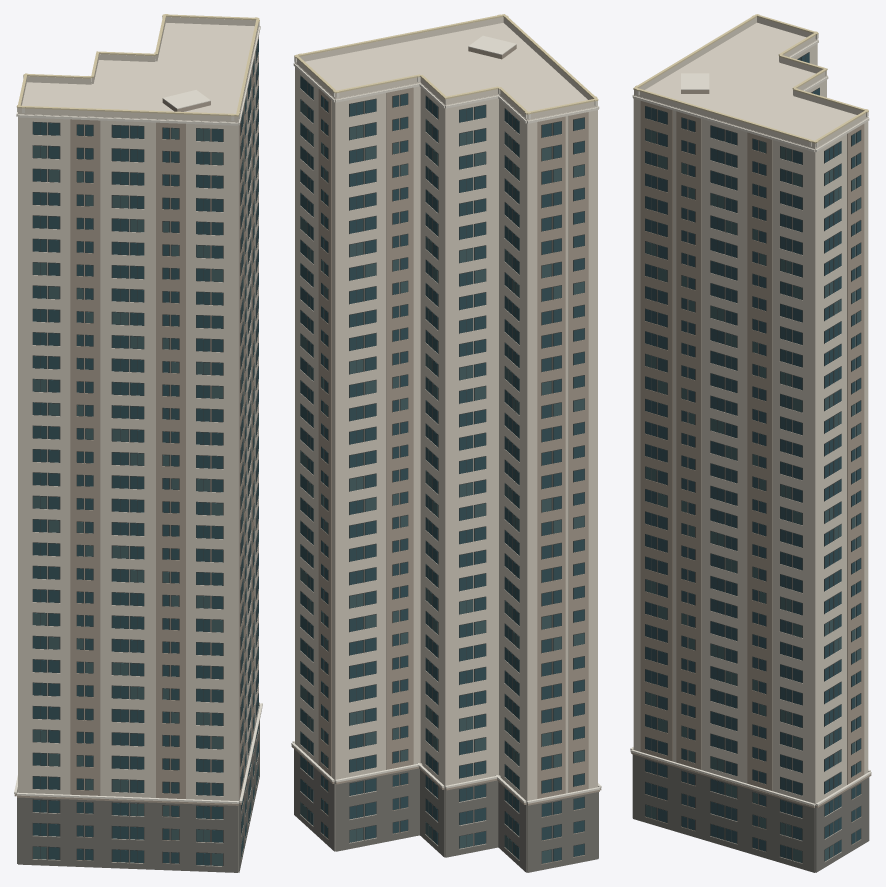
Rendered from bespoke-raemian-prestige-120.glb.
The picture shows the model from 3 angles, left to right: view 1: azimuth 30°, elevation 25°; view 2: azimuth 150°, elevation 25°; view 3: azimuth 270°, elevation 25°; orthographic projection. The views are drawn at different scales.
Visible parts, largest first — view 1: Prestige_warm_ivory_rendered_wall006, Prestige_recessed_blue_green_window006, Prestige_wide_taupe_pilasters006, Prestige_dark_bronze_thin_window_frame006, Prestige_dark_brown_grey_stone_base006, Prestige_muted_green_window_pair006, Prestige_pale_limestone_band006, Prestige_cream_gold_crown_coping006; view 2: Prestige_warm_ivory_rendered_wall006, Prestige_recessed_blue_green_window006, Prestige_wide_taupe_pilasters006, Prestige_dark_bronze_thin_window_frame006, Prestige_dark_brown_grey_stone_base006, Prestige_muted_green_window_pair006, Prestige_pale_limestone_band006, Prestige_cream_gold_crown_coping006; view 3: Prestige_warm_ivory_rendered_wall006, Prestige_wide_taupe_pilasters006, Prestige_recessed_blue_green_window006, Prestige_dark_bronze_thin_window_frame006, Prestige_dark_brown_grey_stone_base006, Prestige_muted_green_window_pair006, Prestige_pale_limestone_band006, Prestige_cream_gold_crown_coping006.
Boxes of the visible parts, x1=… form: Prestige_warm_ivory_rendered_wall006: x1=18, y1=17, x2=258, y2=871; Prestige_recessed_blue_green_window006: x1=33, y1=39, x2=258, y2=865; Prestige_wide_taupe_pilasters006: x1=14, y1=57, x2=261, y2=864; Prestige_dark_bronze_thin_window_frame006: x1=32, y1=39, x2=258, y2=866; Prestige_dark_brown_grey_stone_base006: x1=17, y1=705, x2=259, y2=872; Prestige_muted_green_window_pair006: x1=33, y1=45, x2=258, y2=865; Prestige_pale_limestone_band006: x1=14, y1=17, x2=262, y2=803; Prestige_cream_gold_crown_coping006: x1=16, y1=14, x2=259, y2=116; Prestige_warm_ivory_rendered_wall006: x1=295, y1=17, x2=597, y2=872; Prestige_recessed_blue_green_window006: x1=300, y1=76, x2=584, y2=861; Prestige_wide_taupe_pilasters006: x1=291, y1=45, x2=601, y2=864; Prestige_dark_bronze_thin_window_frame006: x1=300, y1=75, x2=584, y2=863; Prestige_dark_brown_grey_stone_base006: x1=294, y1=749, x2=598, y2=872; Prestige_muted_green_window_pair006: x1=300, y1=99, x2=584, y2=863; Prestige_pale_limestone_band006: x1=291, y1=35, x2=601, y2=803; Prestige_cream_gold_crown_coping006: x1=294, y1=14, x2=598, y2=114; Prestige_warm_ivory_rendered_wall006: x1=633, y1=17, x2=868, y2=863; Prestige_wide_taupe_pilasters006: x1=630, y1=90, x2=871, y2=852; Prestige_recessed_blue_green_window006: x1=645, y1=52, x2=860, y2=859; Prestige_dark_bronze_thin_window_frame006: x1=645, y1=52, x2=861, y2=863; Prestige_dark_brown_grey_stone_base006: x1=632, y1=754, x2=869, y2=872; Prestige_muted_green_window_pair006: x1=645, y1=129, x2=860, y2=862; Prestige_pale_limestone_band006: x1=630, y1=34, x2=871, y2=806; Prestige_cream_gold_crown_coping006: x1=633, y1=14, x2=868, y2=143.
Size of the model in its own units: 34.71 by 90.5 by 27.11.
